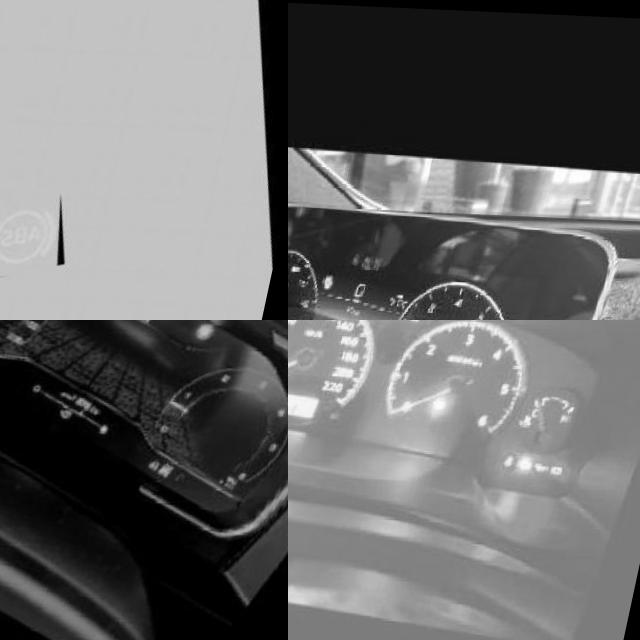High Engine Coolant Temperature: (537, 407, 553, 420)
Low fuel level: (73, 409, 87, 421)
Seat Belt: (525, 449, 536, 460)
